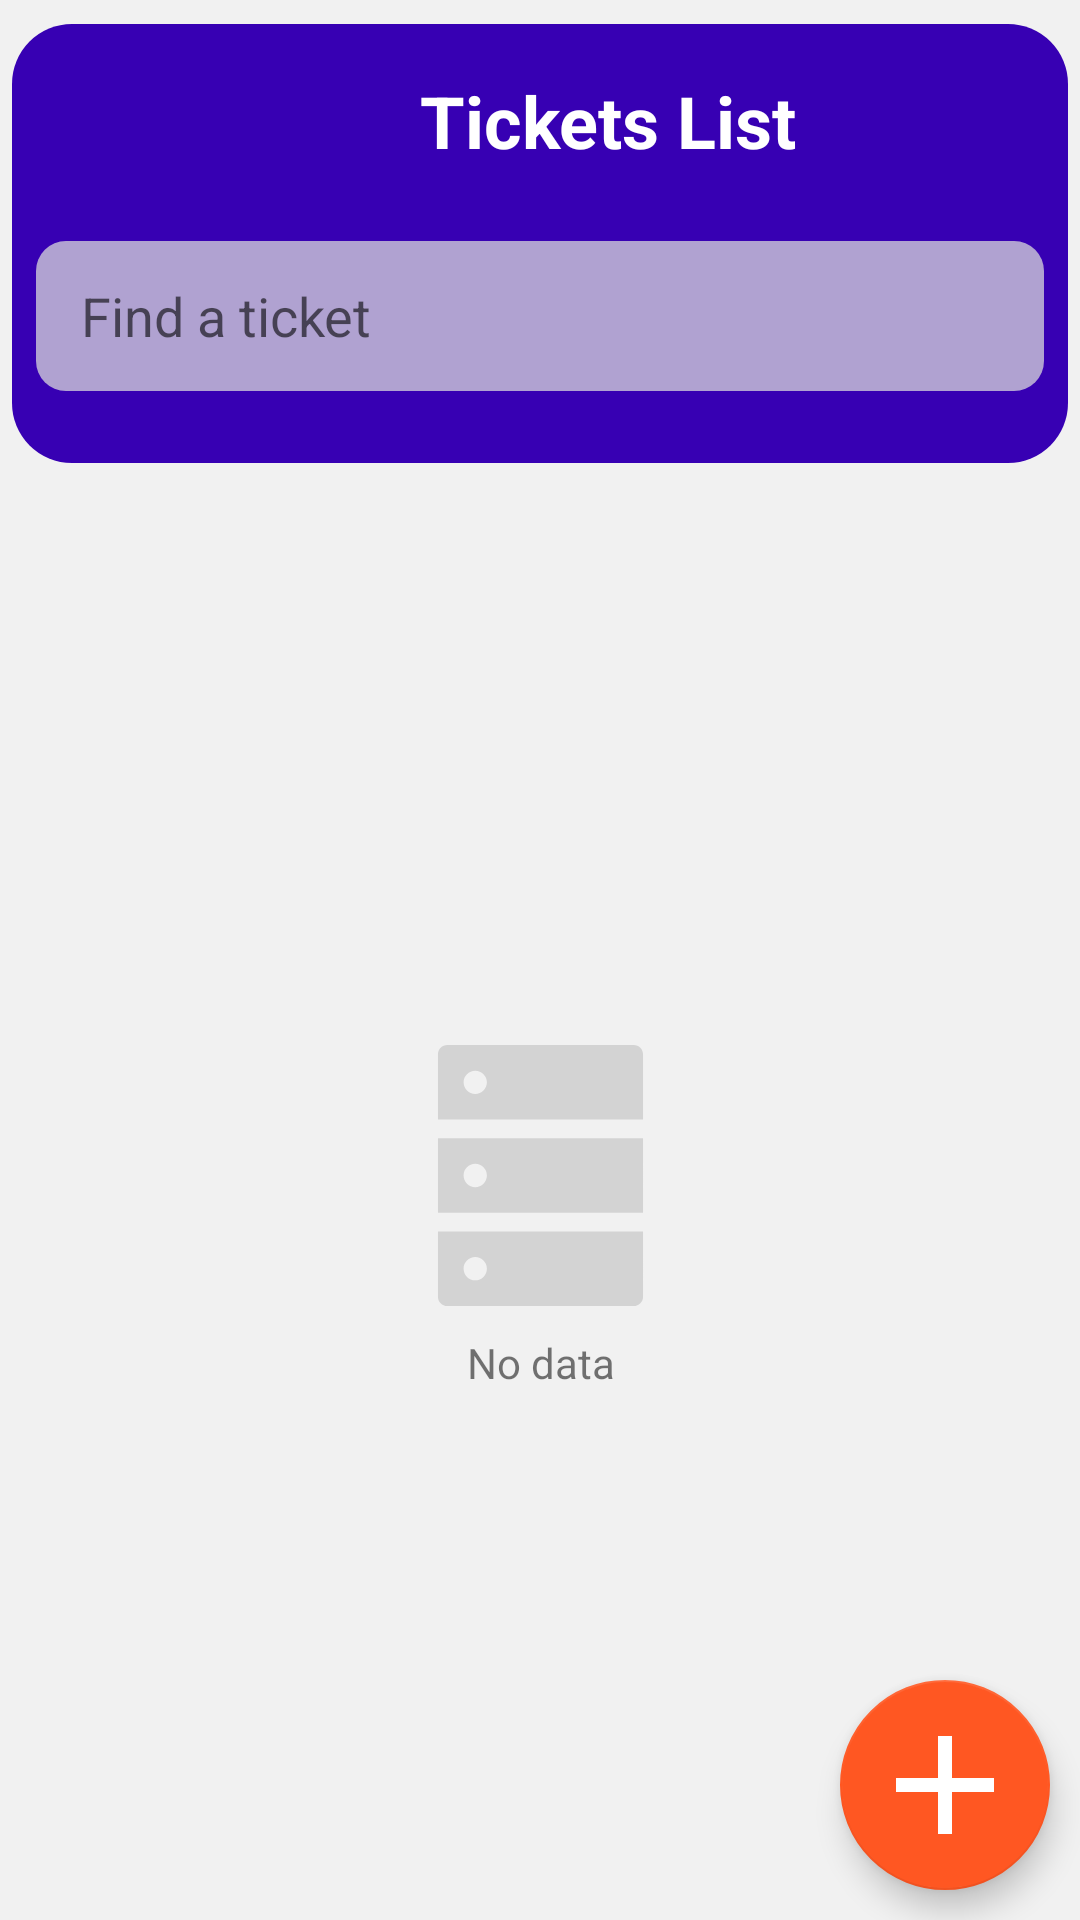

Named icons in this screenshot (1080px x 1920px) and their bounding boxes, bbox=[x1, y1, x2, y2]:
add: bbox=[840, 1680, 1050, 1890]
database: bbox=[438, 1045, 643, 1306]
